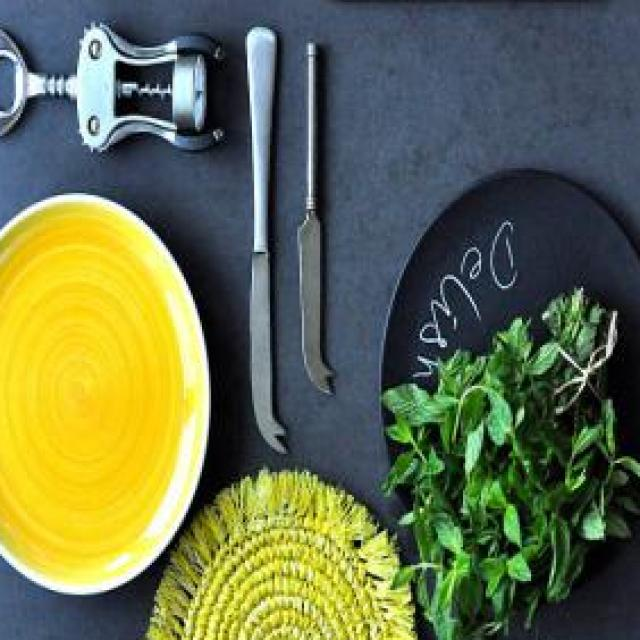knife: (245, 22, 286, 456), (295, 28, 340, 400)
